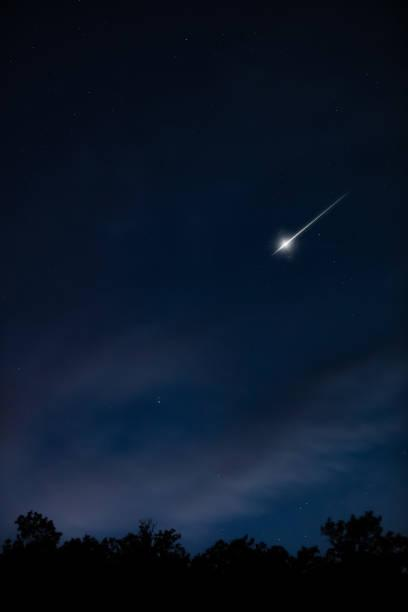meteor: (266, 238, 298, 262)
